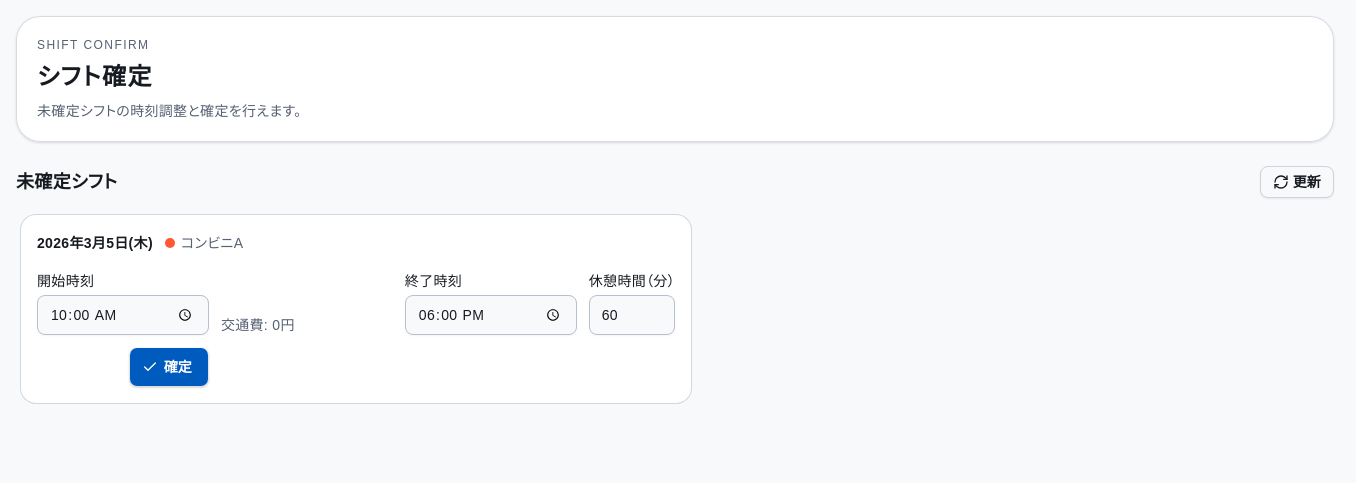
shift confirm page and card flow › keeps the displayed cards when a manual refresh fails
Click the button "更新" at (1297, 182), box [1260, 166, 1334, 198]
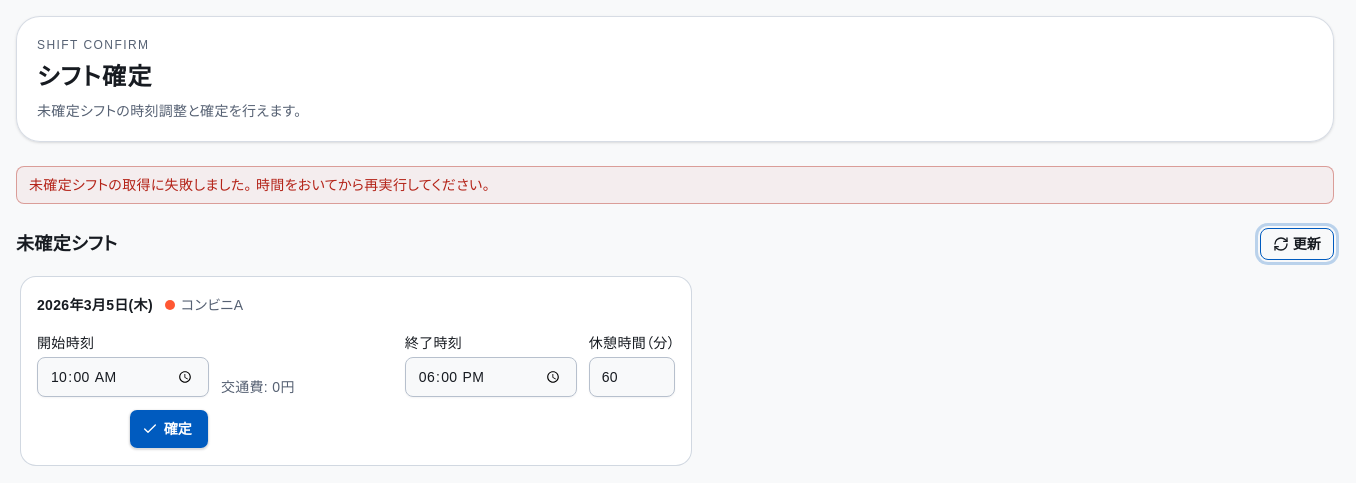
Expected: the time field showing "10:00" is shown, [37, 357, 209, 397]
Result: the text "未確定シフトの取得に失敗しました。 時間をおいてから再実行してください。" is shown at [16, 166, 1334, 204]
